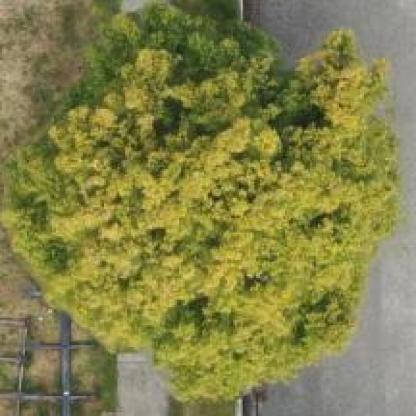Deciduous Tree: (2, 12, 416, 395)
